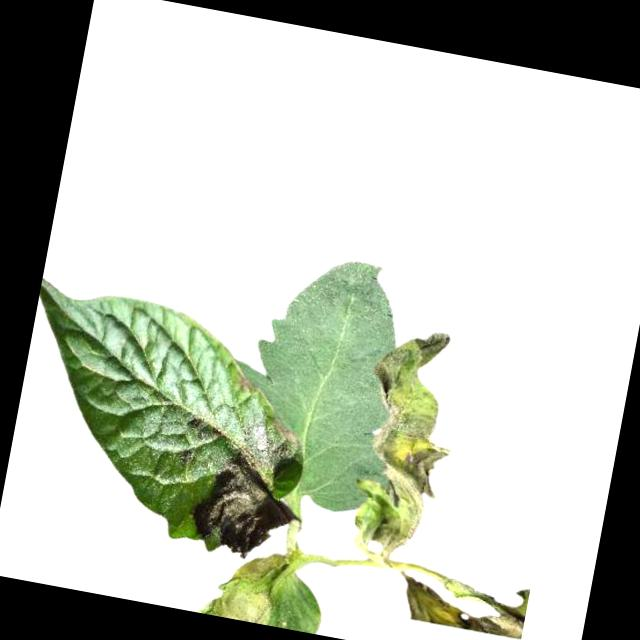Late_blight: (342, 322, 474, 563), (185, 408, 315, 565), (399, 569, 530, 640), (195, 540, 292, 626), (233, 376, 260, 400)
